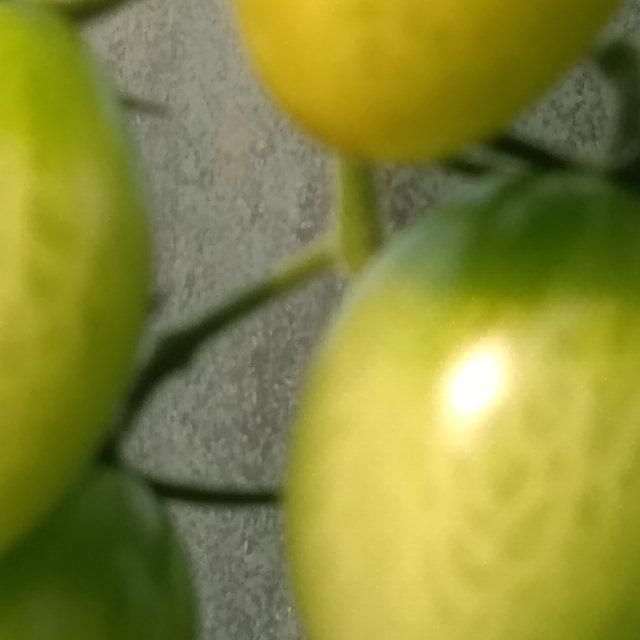tomato: (0, 40, 390, 640)
